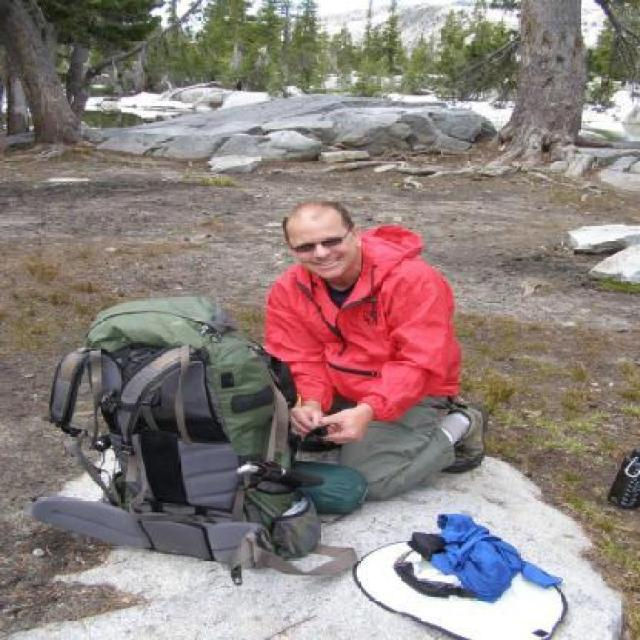backpack: (51, 294, 309, 569)
